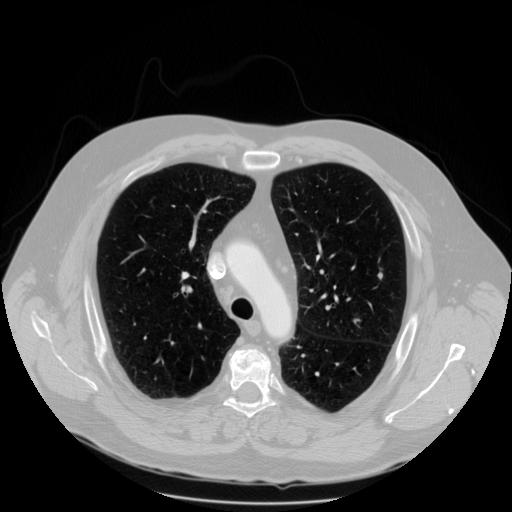nodule: (374, 269, 387, 282)
